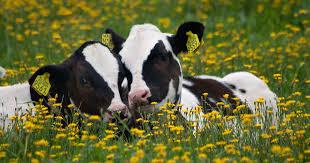cow: (102, 21, 278, 128), (0, 41, 133, 133)
